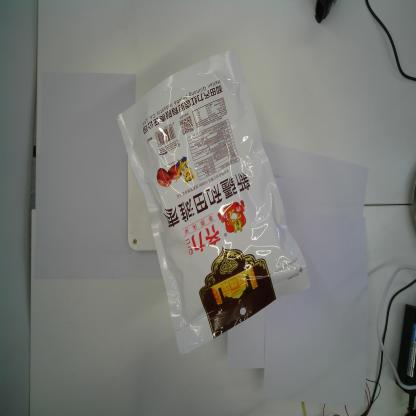Dried Food: (116, 49, 311, 356)
